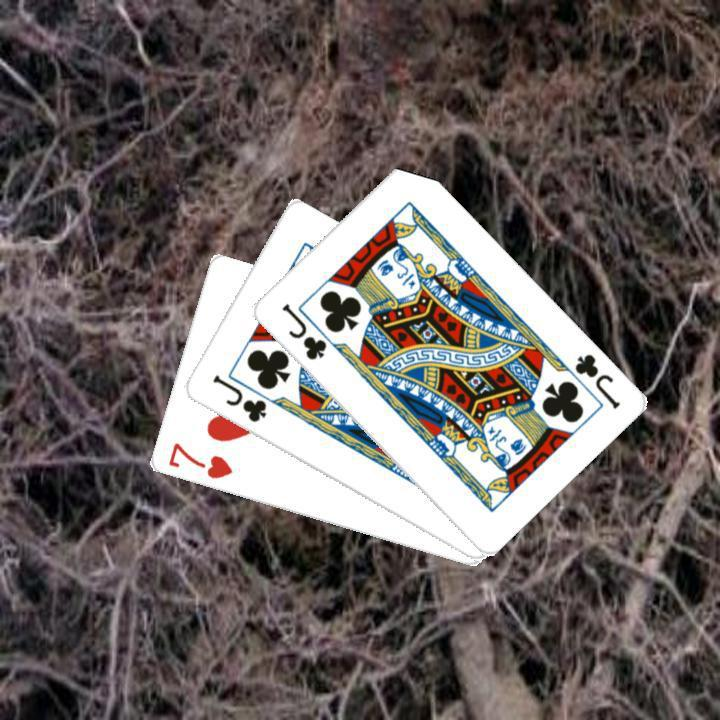7: (163, 438, 235, 482)
J: (207, 370, 268, 425), (569, 349, 622, 412), (277, 299, 329, 363)
